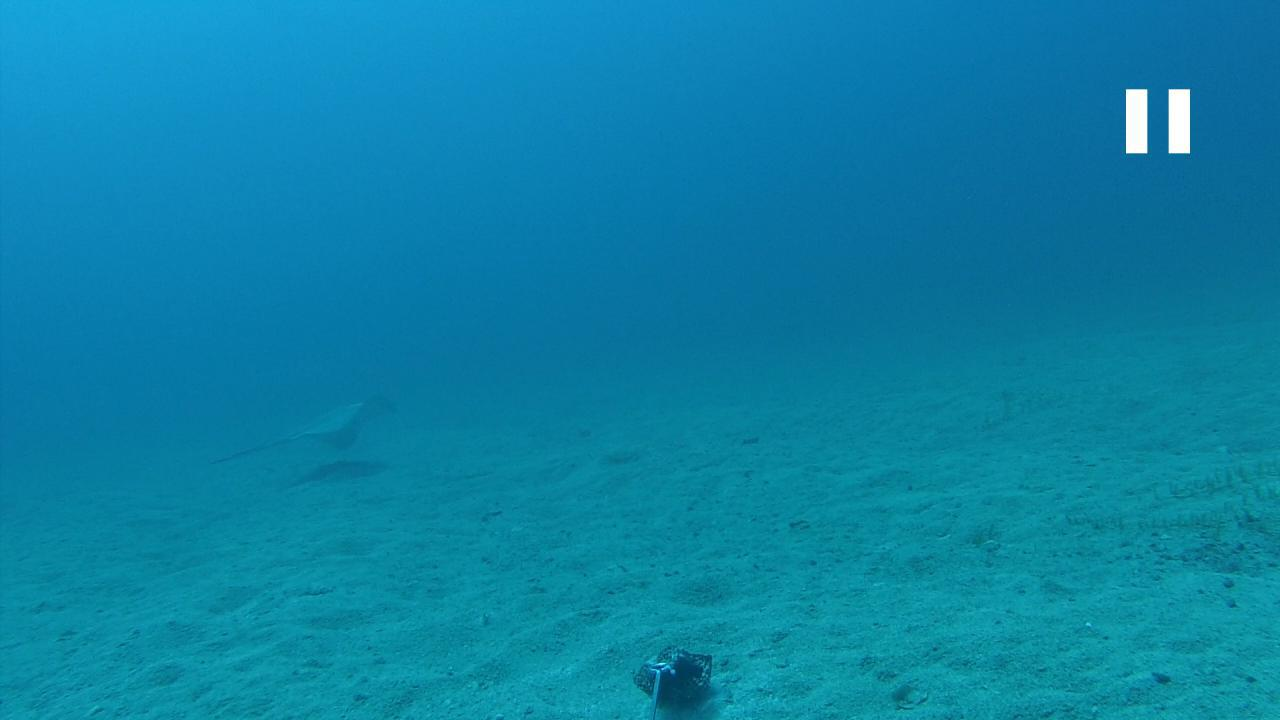dasyatis: (208, 392, 396, 470)
